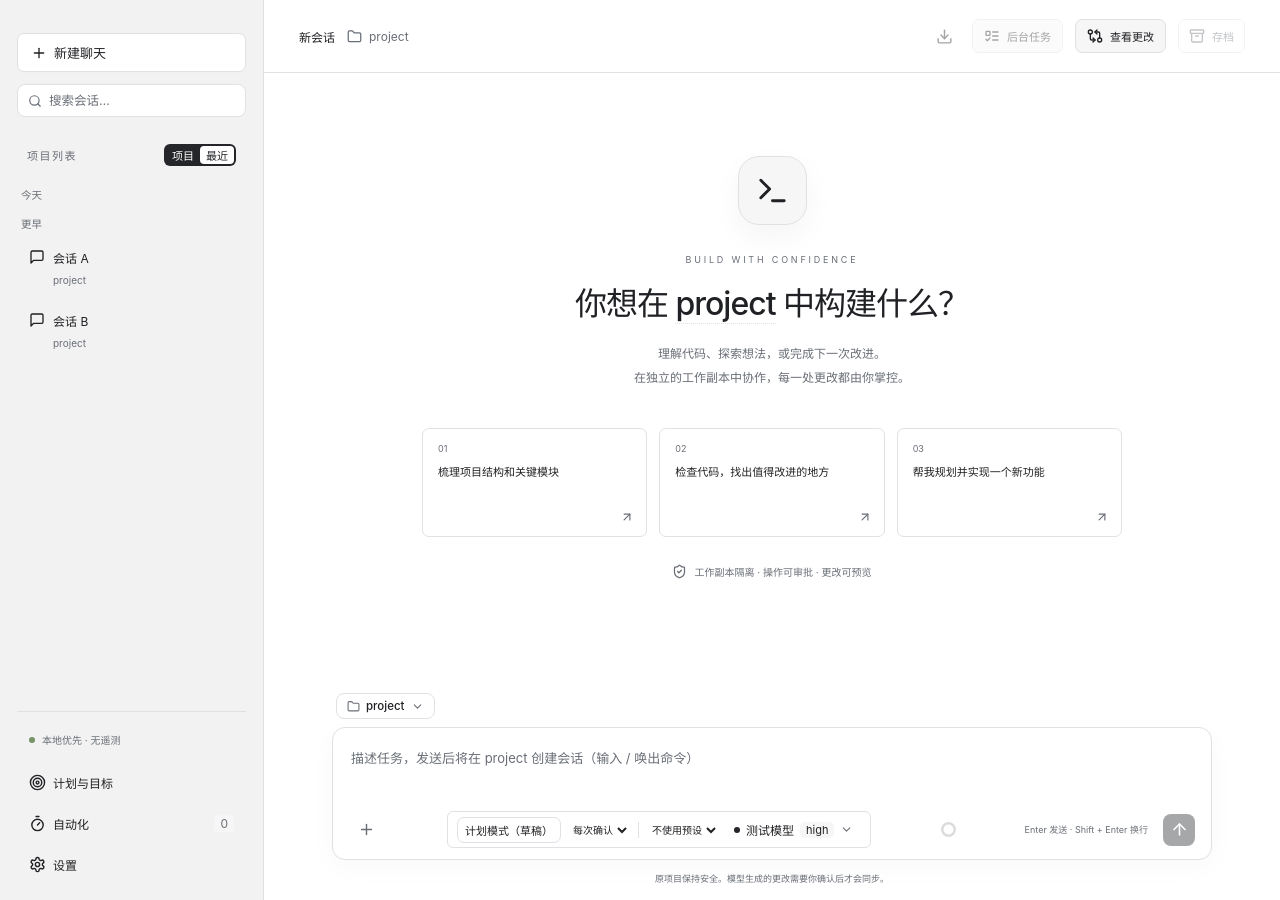
Test: 计划模式 composer 入口 › 启用失败保留任务并显示错误，不发送
Click the button "会话 A project" at (126, 268), box [17,238,236,297]
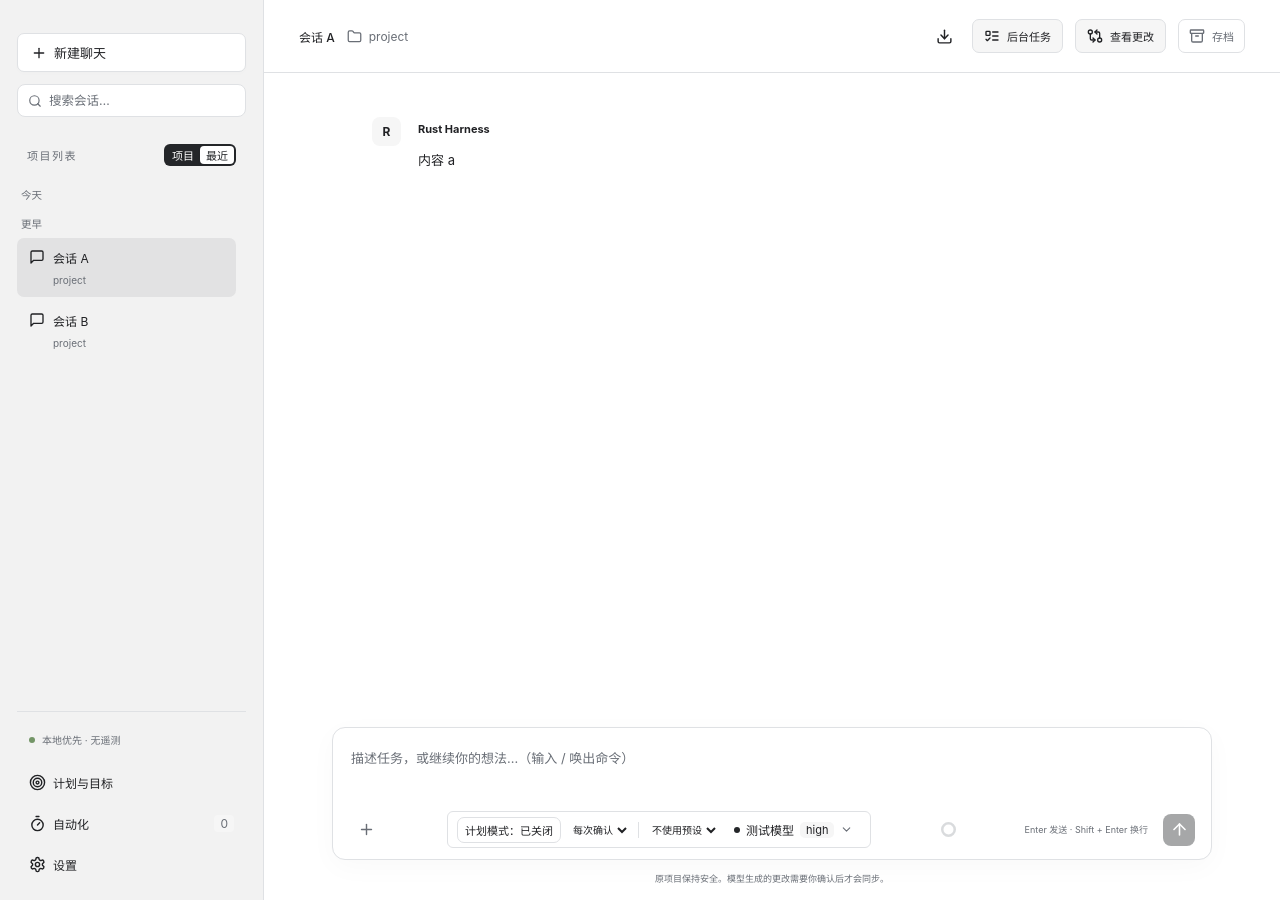
Result: the text "内容 a" is shown at [418,152,455,168]
Type "/plan 调查导出" into the text box named "消息" at (772, 772), box [349,745,1195,798]
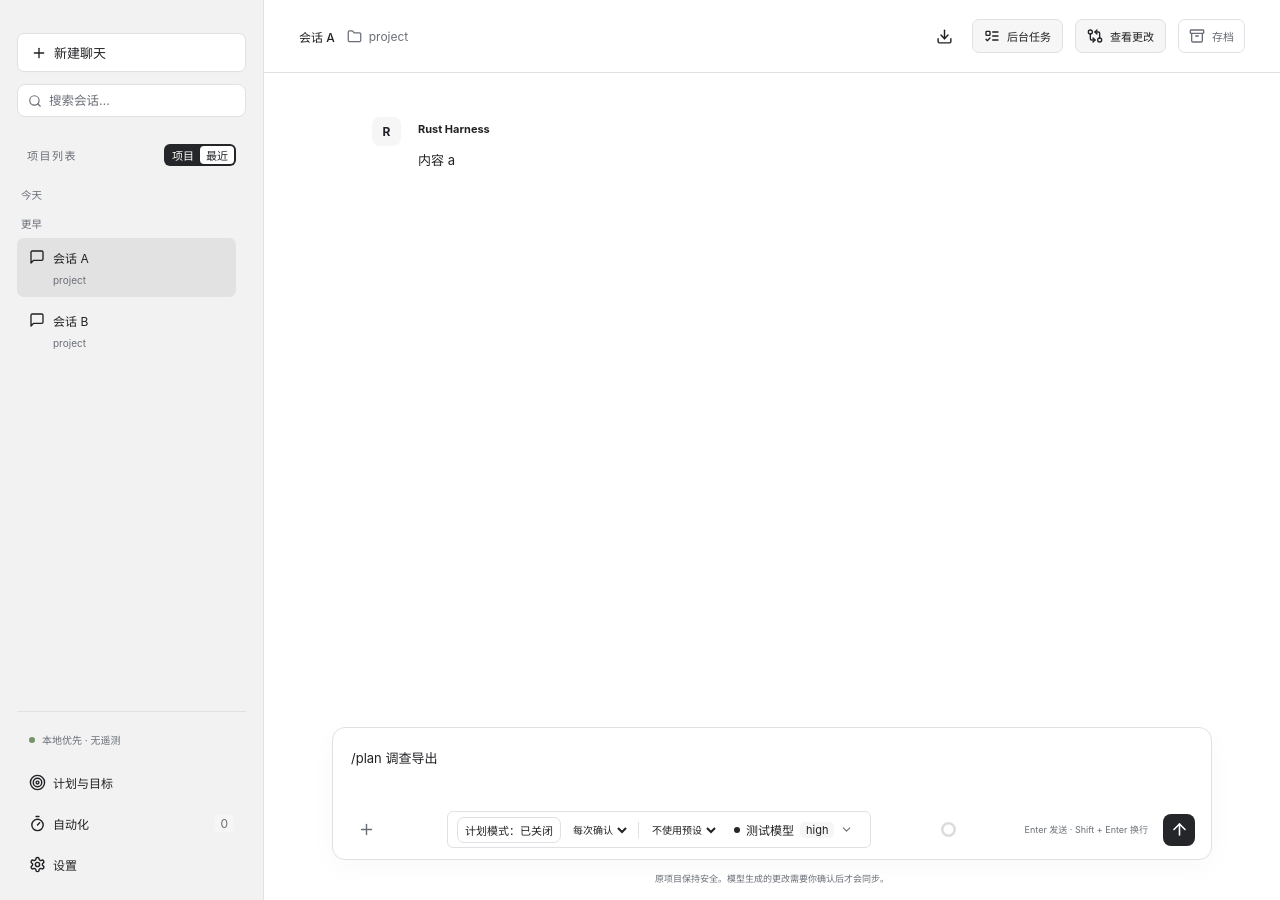
Click the button named "发送消息" at (1179, 830), box [1163,814,1195,846]
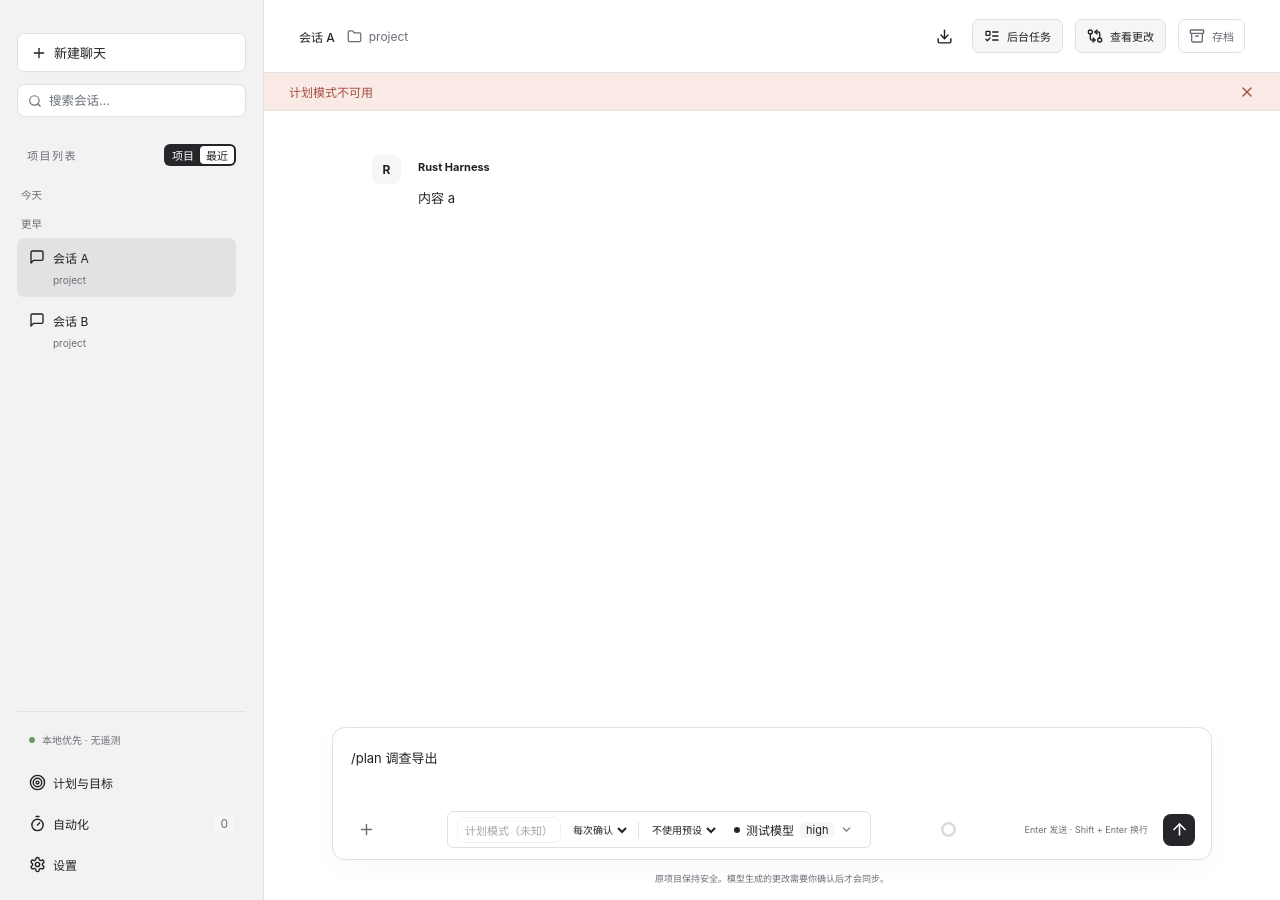
Result: the text "计划模式不可用" is shown at [289,85,373,100]
